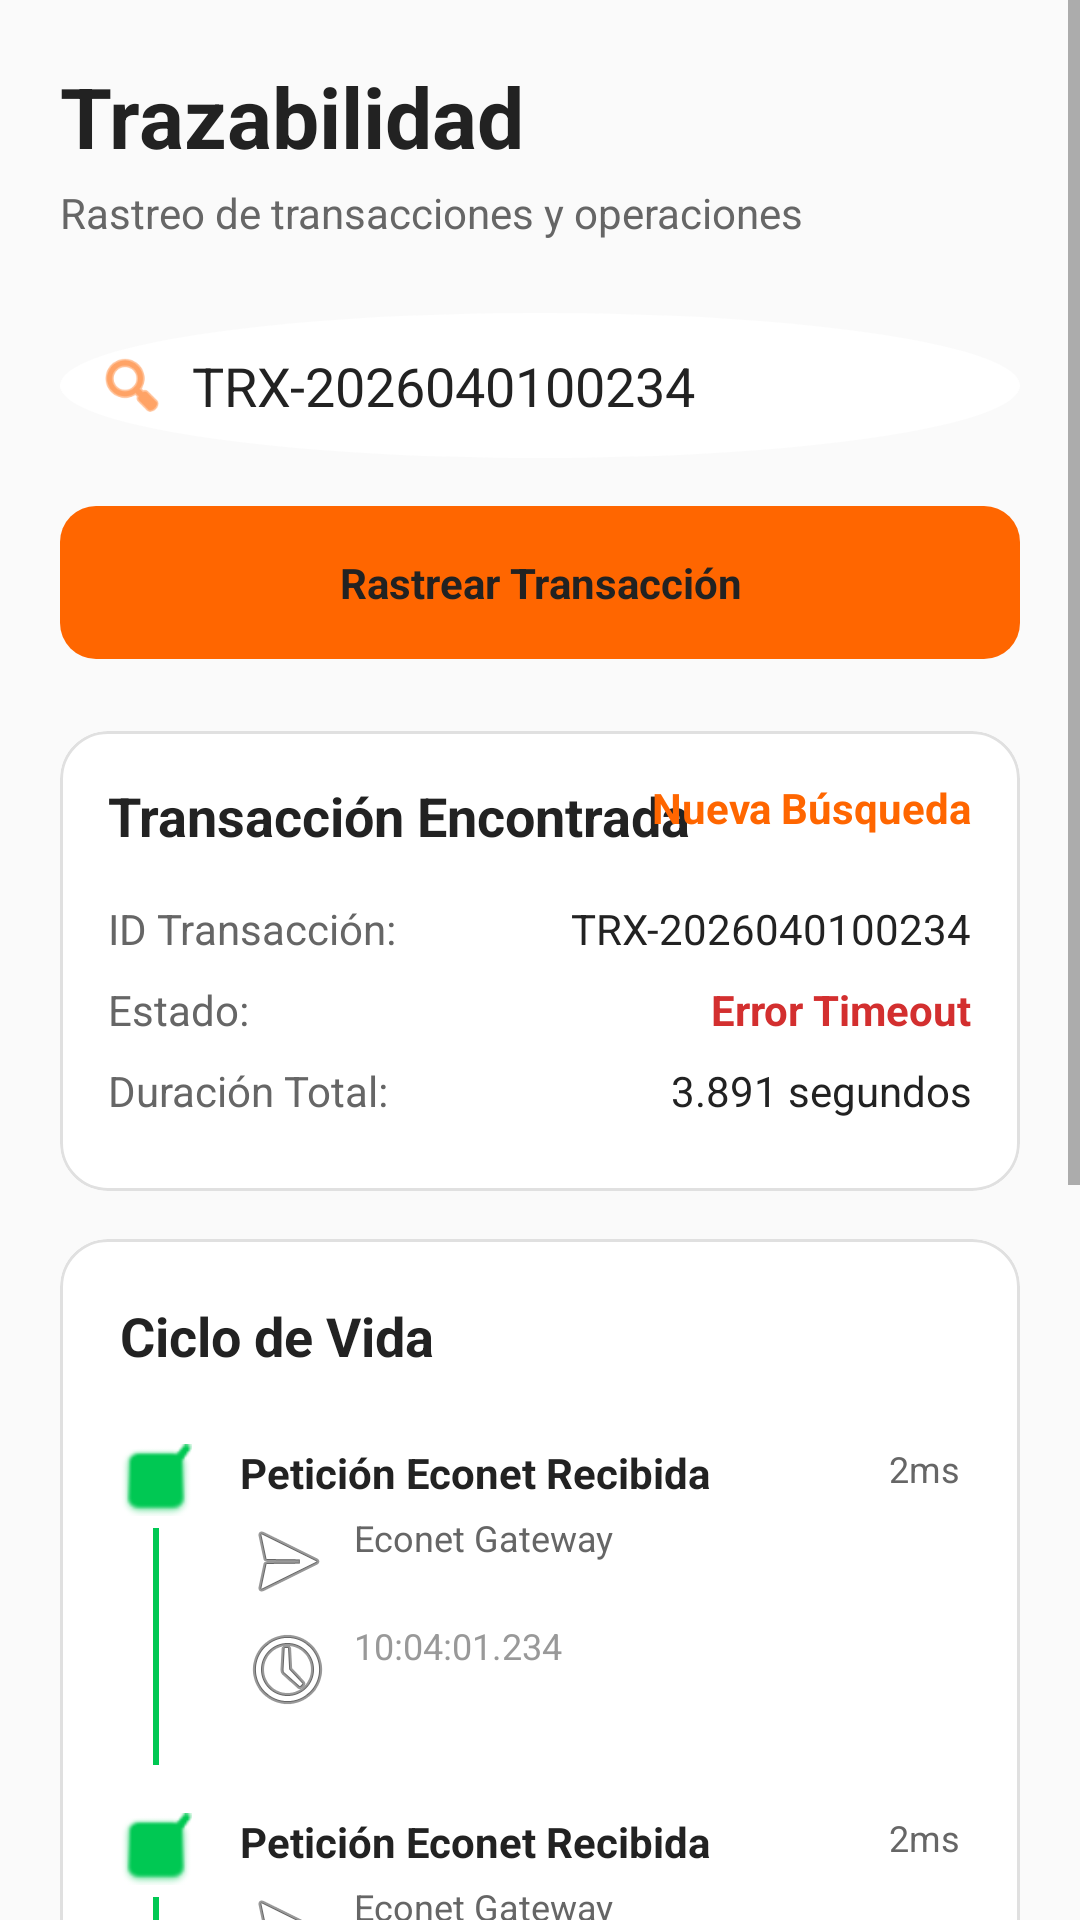

Named icons in this screenshot (1080*1920) and their bounding boxes, (x1, y1, x2, y2):
search: (105, 359, 159, 412)
